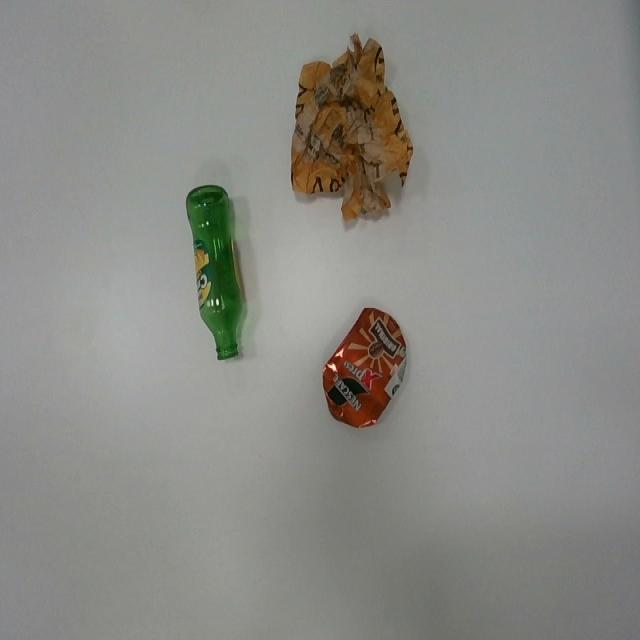glass: (181, 169, 261, 375)
metal: (319, 297, 415, 439)
paper: (284, 25, 423, 231)
